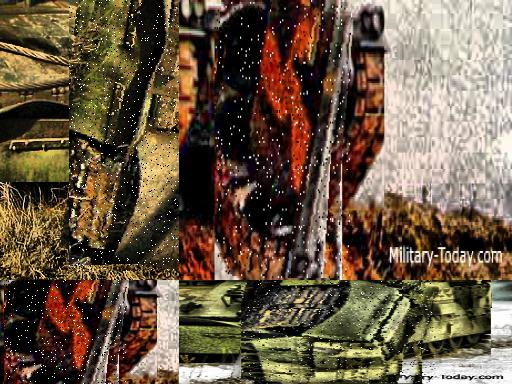tanks: (216, 1, 353, 279), (70, 1, 180, 271), (243, 281, 438, 384), (5, 281, 129, 384)
